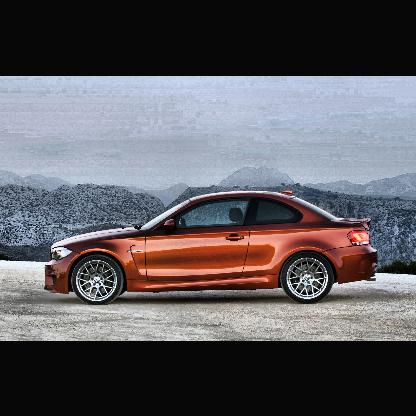BMW 1 Series Coupe 2012: (42, 188, 380, 308)
